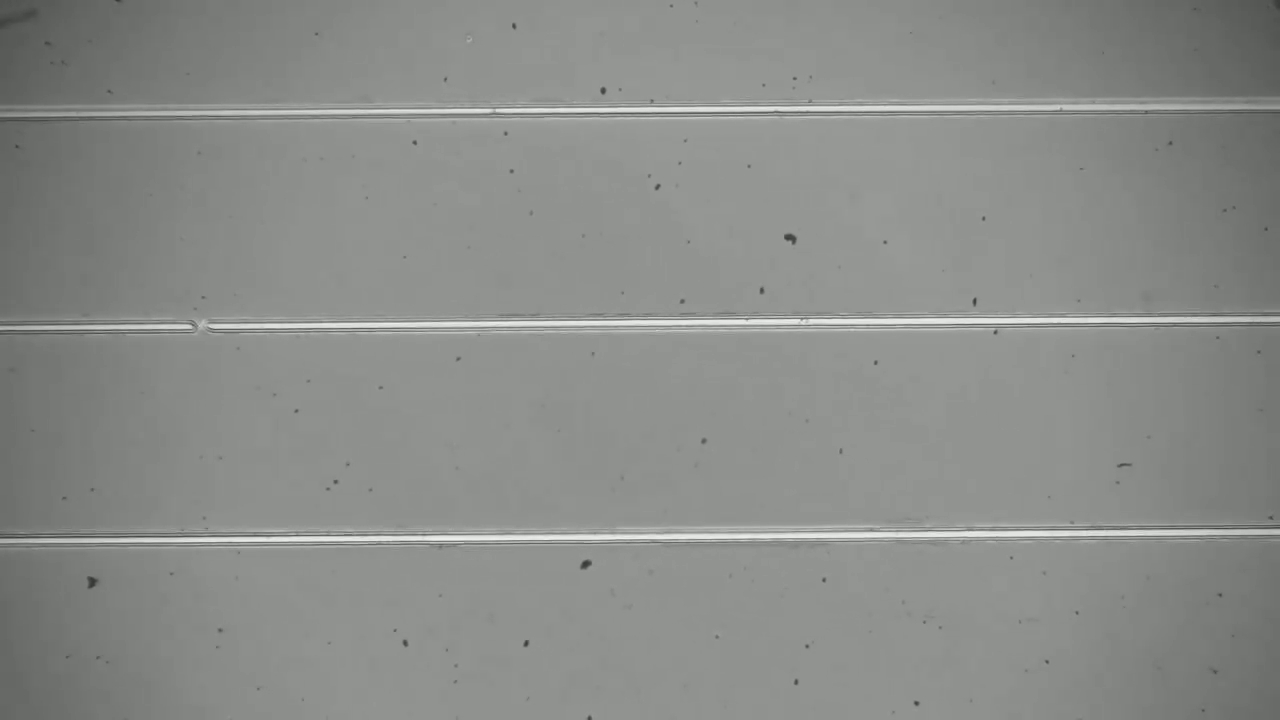open: (181, 311, 218, 344)
